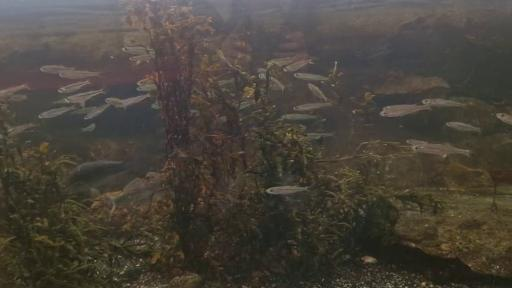Fish: (110, 172, 162, 210), (68, 158, 131, 184), (412, 144, 471, 156), (66, 89, 104, 107), (106, 94, 151, 109), (380, 105, 431, 117), (269, 54, 307, 66), (7, 123, 39, 136), (0, 84, 29, 98), (39, 107, 75, 118), (123, 94, 151, 108), (106, 191, 123, 214), (84, 104, 110, 119), (446, 122, 481, 133), (58, 81, 90, 93), (59, 70, 101, 79), (308, 84, 328, 102), (284, 59, 314, 71), (422, 99, 467, 107), (266, 186, 308, 194), (294, 103, 333, 111), (40, 66, 73, 74), (294, 73, 329, 80), (122, 47, 154, 54), (282, 114, 319, 120), (106, 98, 126, 109), (270, 77, 285, 91), (304, 133, 333, 140), (269, 58, 295, 65), (130, 54, 154, 61), (72, 107, 96, 114), (496, 113, 511, 124), (239, 100, 255, 110), (406, 139, 428, 146), (8, 94, 27, 102), (137, 84, 157, 91), (137, 78, 154, 86), (219, 79, 234, 86), (81, 124, 95, 131), (52, 98, 68, 104), (151, 102, 161, 109), (190, 110, 199, 117), (257, 68, 266, 73), (259, 74, 266, 80)
